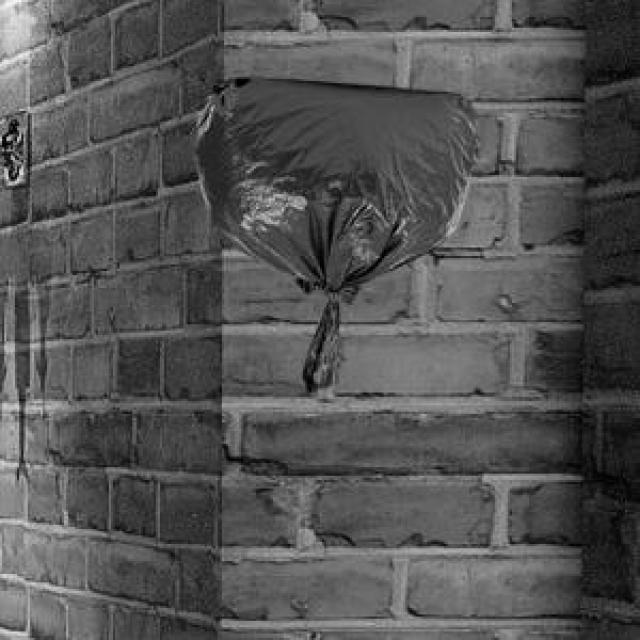miscellaneous trash: (192, 75, 474, 388)
